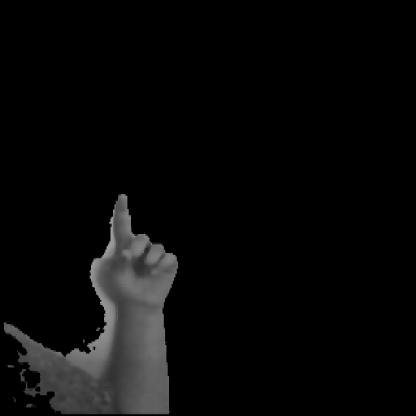one: (48, 168, 207, 369)
